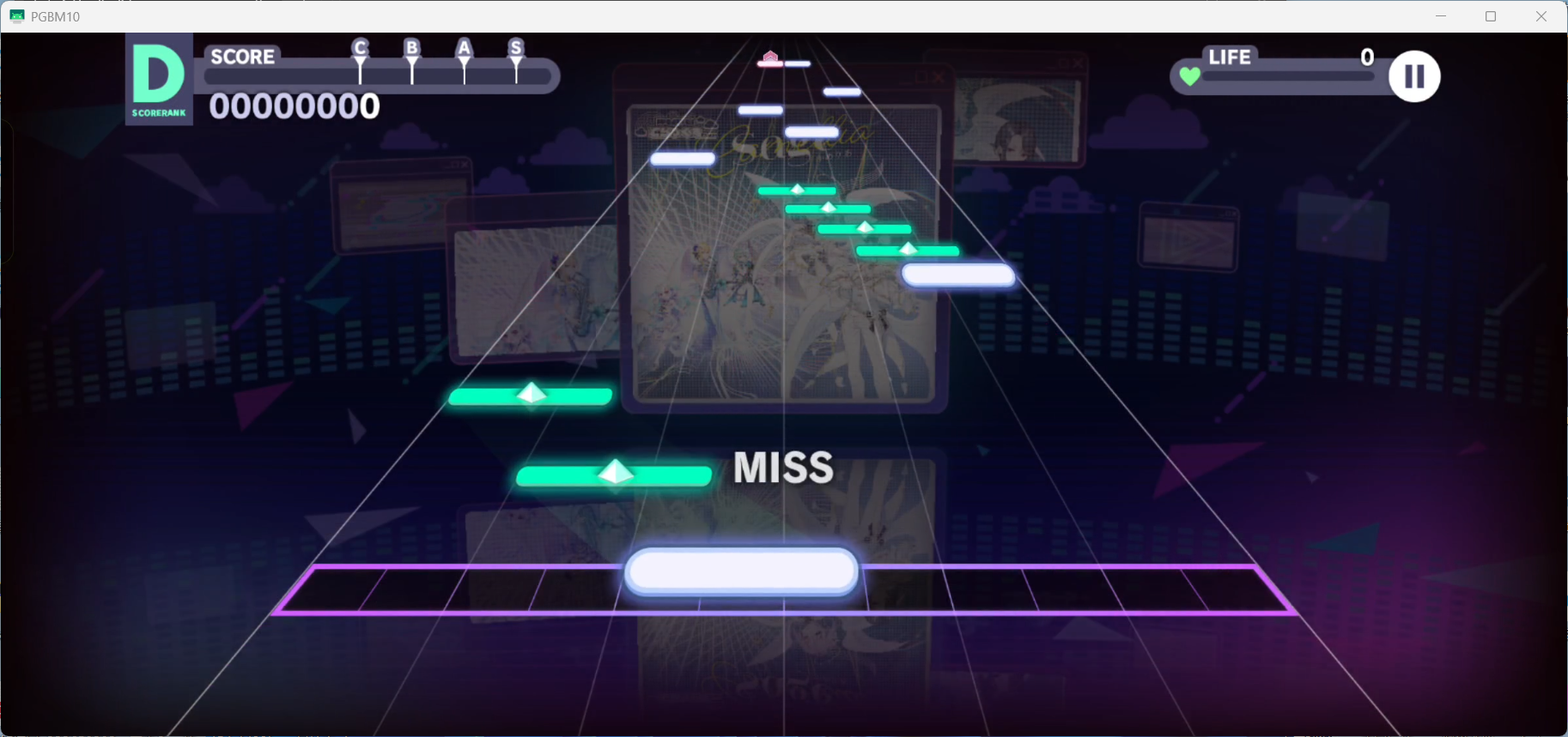flick: (763, 50, 777, 62)
sweep: (516, 458, 712, 486), (448, 381, 612, 405), (856, 241, 959, 257), (817, 220, 911, 234), (785, 202, 871, 214), (758, 183, 836, 196)
tap: (623, 546, 860, 597), (902, 263, 1016, 287), (650, 152, 714, 166), (784, 126, 839, 138), (738, 106, 782, 116), (823, 88, 861, 96), (785, 60, 810, 67), (757, 61, 783, 66)
